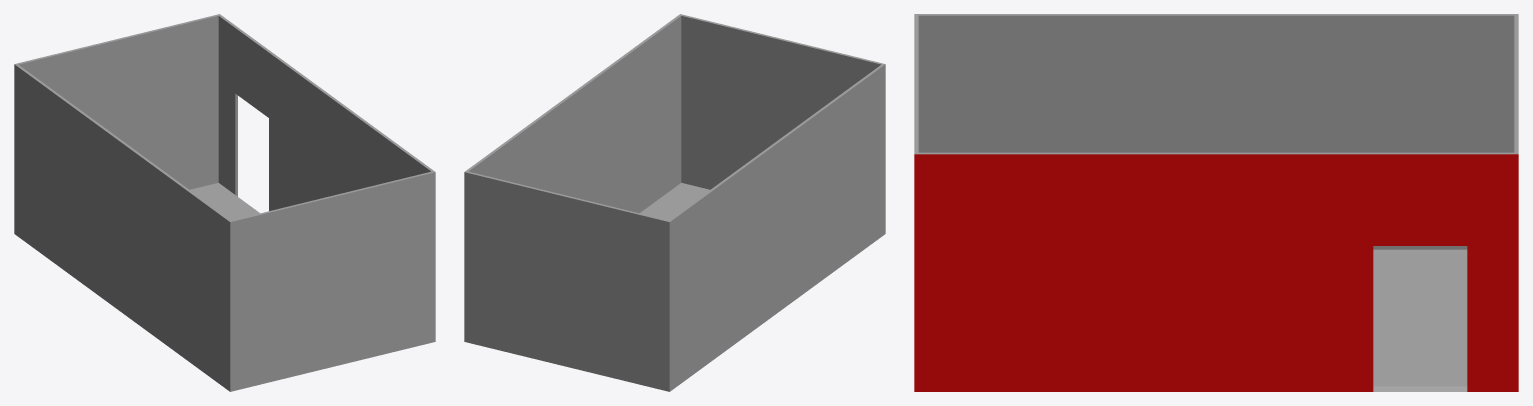
The model's file is room2.fbx.
3 views of the same model, side by side, from view 1: azimuth 30°, elevation 25°; view 2: azimuth 150°, elevation 25°; view 3: azimuth 270°, elevation 25° (orthographic). The views are drawn at different scales.
Visible parts, largest first — view 1: room2; view 2: room2; view 3: room2.
Part boxes in pixels (x1,y1,x2,y2): room2: (14,14,435,391); room2: (464,14,885,391); room2: (914,14,1518,391).
Bounding box in the file's own units: 3.86 × 3.05 × 7.03.
